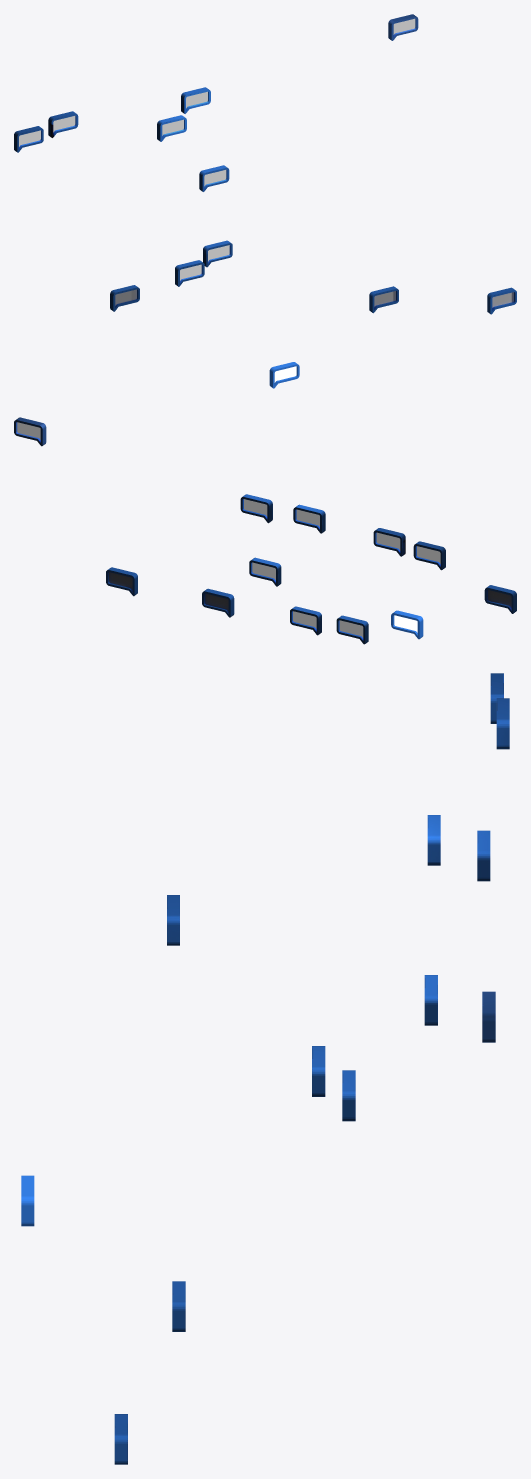
Rendered from pop_up_games.glb.
The picture shows the model from 3 angles, top to bottom: view 1: azimuth 30°, elevation 25°; view 2: azimuth 150°, elevation 25°; view 3: azimuth 270°, elevation 25°; orthographic projection. The views are drawn at different scales.
Visible parts, largest first — view 1: pop_up_running, pop_up_development, pop_up_photography_left, pop_up_languages, pop_up_social_networks, pop_up_share_knowledge, pop_up_photography_right, pop_up_art, pop_up_games, pop_up_travel, pop_up_stereoscopy, pop_up_contact_me; view 2: pop_up_share_knowledge, pop_up_travel, pop_up_running, pop_up_social_networks, pop_up_languages, pop_up_contact_me, pop_up_development, pop_up_games, pop_up_photography_left, pop_up_art, pop_up_photography_right, pop_up_stereoscopy; view 3: no part large enough to name.
Boxes of the visible parts, bbox=[...] form: pop_up_running: bbox=[269, 362, 299, 388]; pop_up_development: bbox=[199, 165, 229, 191]; pop_up_photography_left: bbox=[48, 111, 78, 137]; pop_up_languages: bbox=[388, 14, 418, 40]; pop_up_social_networks: bbox=[157, 115, 186, 141]; pop_up_share_knowledge: bbox=[369, 286, 398, 313]; pop_up_photography_right: bbox=[487, 287, 516, 314]; pop_up_art: bbox=[14, 126, 43, 152]; pop_up_games: bbox=[110, 285, 139, 311]; pop_up_travel: bbox=[181, 87, 210, 113]; pop_up_stereoscopy: bbox=[203, 240, 232, 267]; pop_up_contact_me: bbox=[175, 260, 204, 286]; pop_up_share_knowledge: bbox=[202, 588, 234, 617]; pop_up_travel: bbox=[240, 494, 272, 523]; pop_up_running: bbox=[391, 610, 423, 639]; pop_up_social_networks: bbox=[293, 504, 325, 533]; pop_up_languages: bbox=[14, 417, 46, 446]; pop_up_contact_me: bbox=[336, 615, 368, 644]; pop_up_development: bbox=[249, 557, 281, 586]; pop_up_games: bbox=[484, 585, 516, 613]; pop_up_photography_left: bbox=[373, 528, 405, 556]; pop_up_art: bbox=[413, 541, 445, 570]; pop_up_photography_right: bbox=[106, 567, 137, 596]; pop_up_stereoscopy: bbox=[290, 606, 321, 635].
Size of the model in its own units: 34.1 by 18.2 by 17.78.
12 materials, 12 textured.
